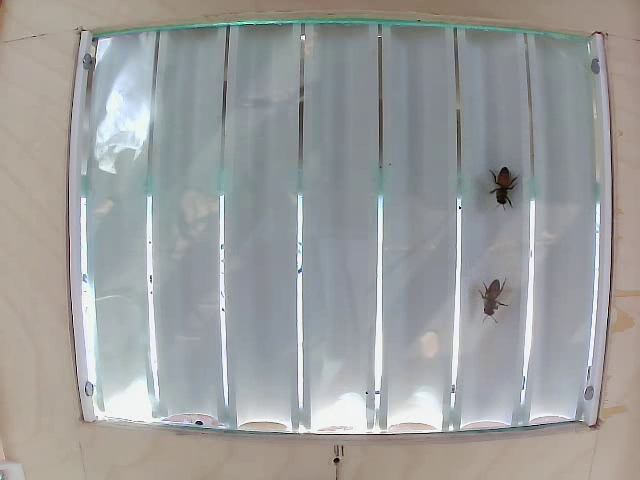bee: (489, 155, 518, 223), (477, 273, 504, 329)
